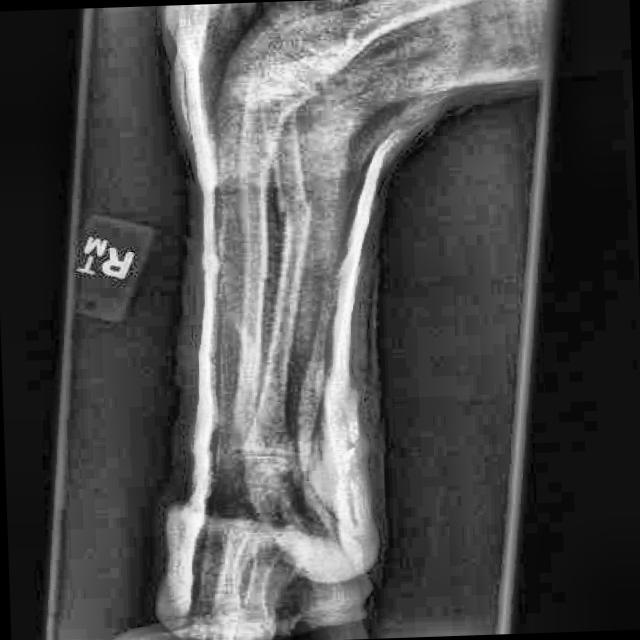forearm fracture: (259, 170, 337, 261)
